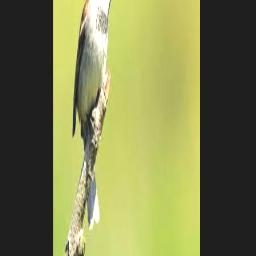Sparrow: (72, 0, 117, 229)
